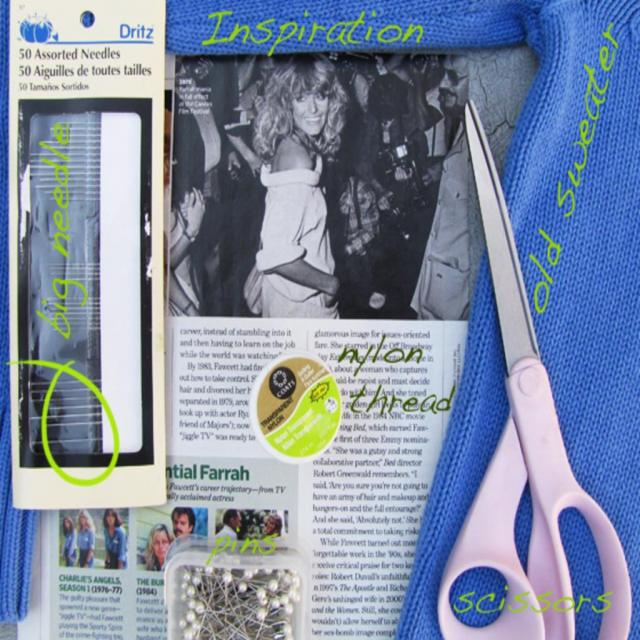scissor: (441, 99, 639, 638)
